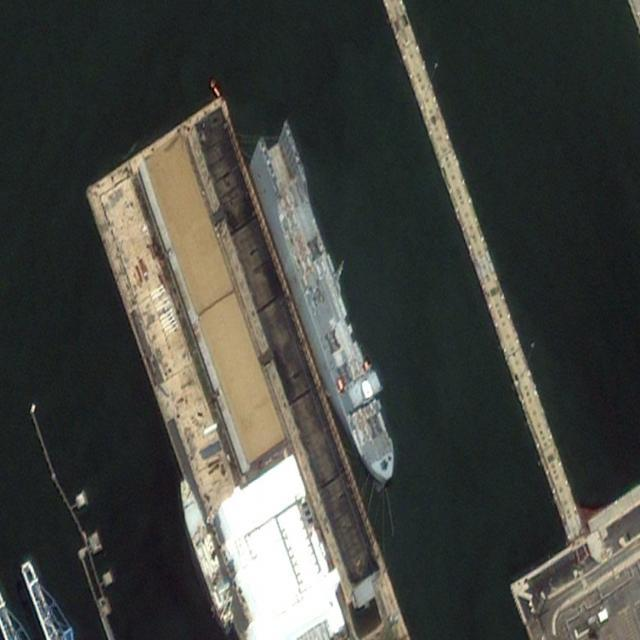Cargo: (241, 120, 405, 501)
